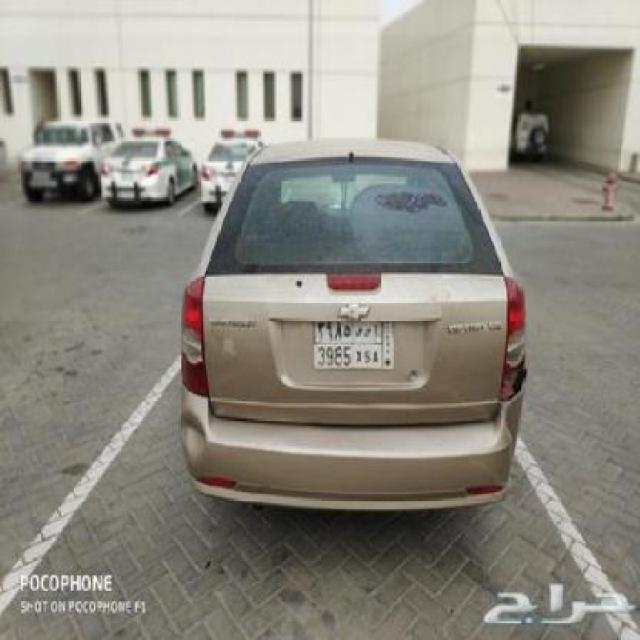license_plate: (309, 316, 397, 372)
